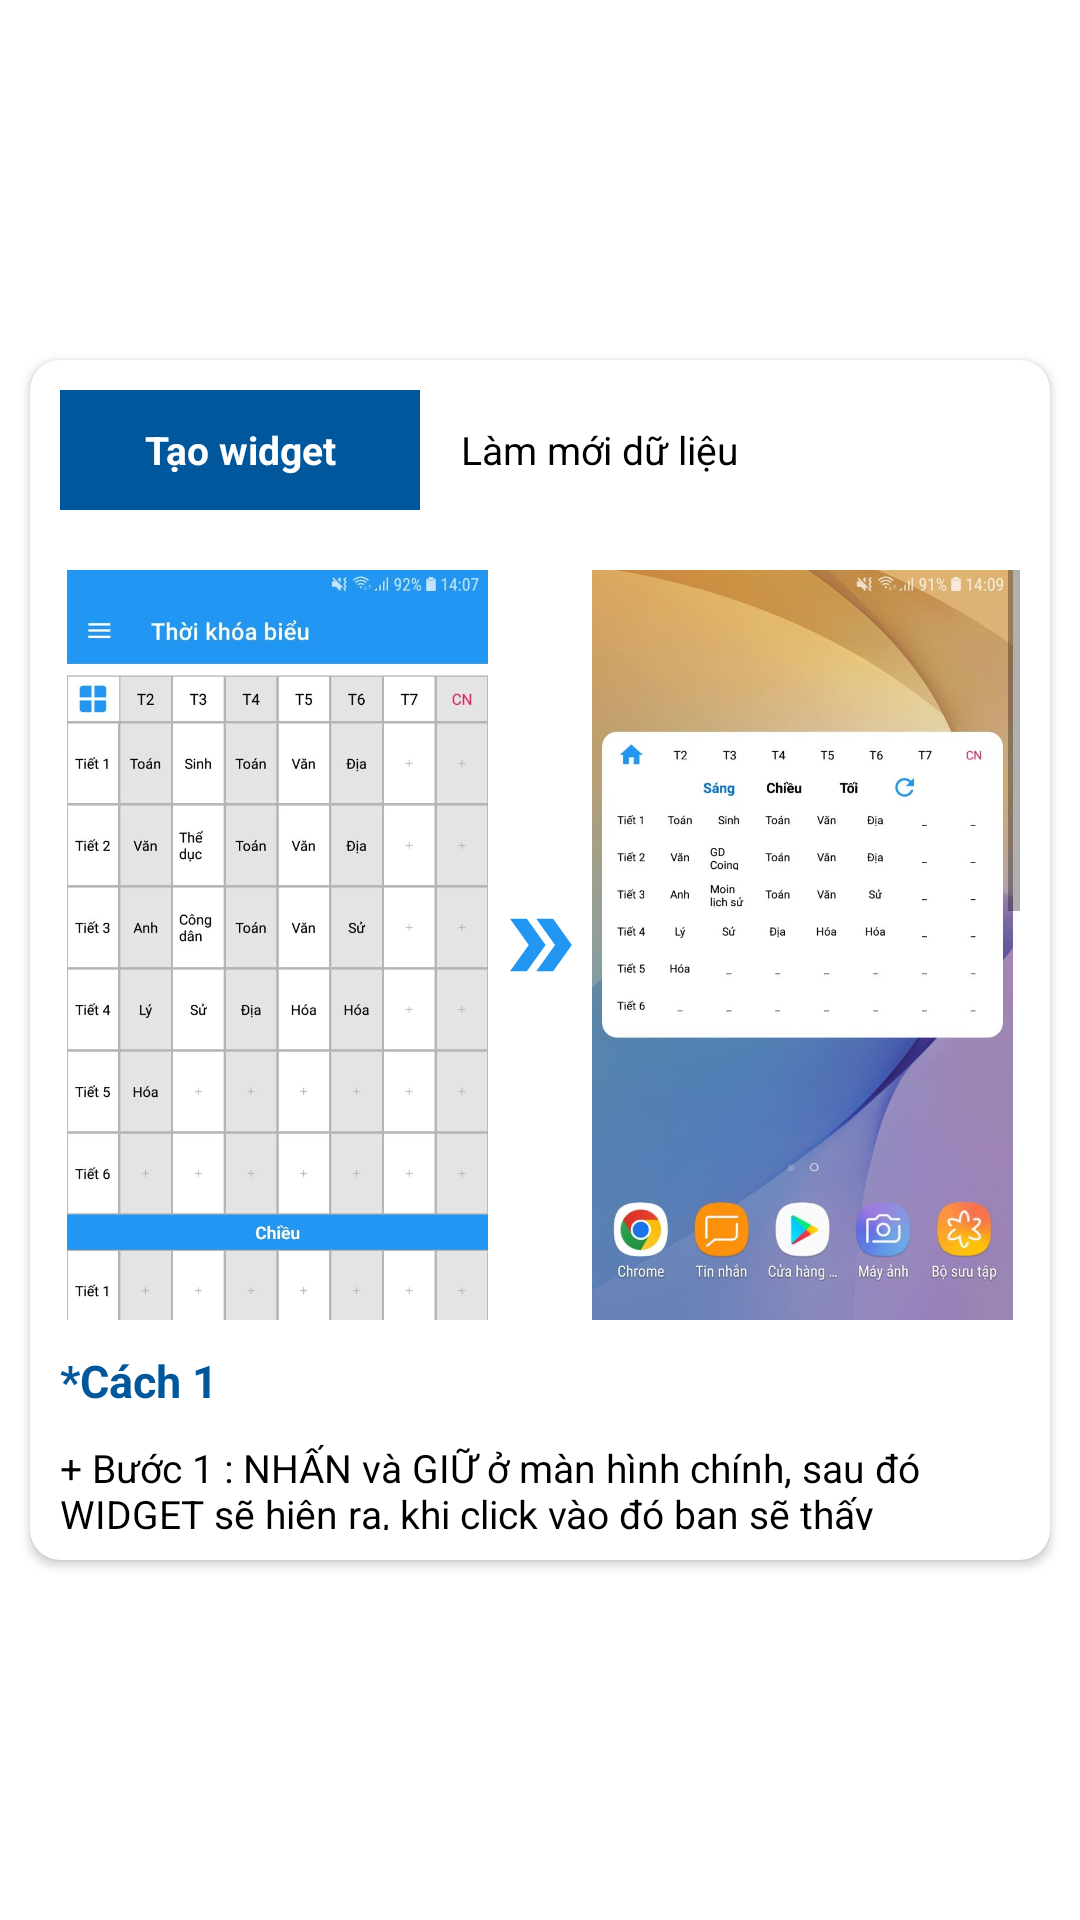

Point at icon controls on the screen. Image size 1080px×1920px, points as (x,y).
double arrow: (541,945)
